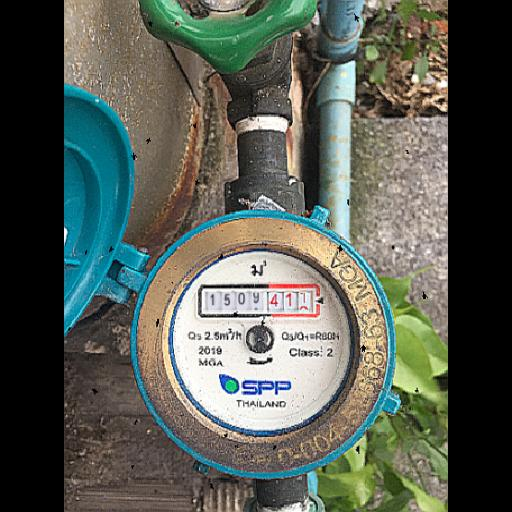0: (237, 292, 249, 311)
1: (284, 293, 297, 312), (207, 293, 219, 312), (299, 293, 311, 312)
4: (269, 293, 282, 312)
5: (222, 293, 234, 311)
9: (251, 293, 263, 312)
border_water_meter_number: (198, 284, 321, 318)
